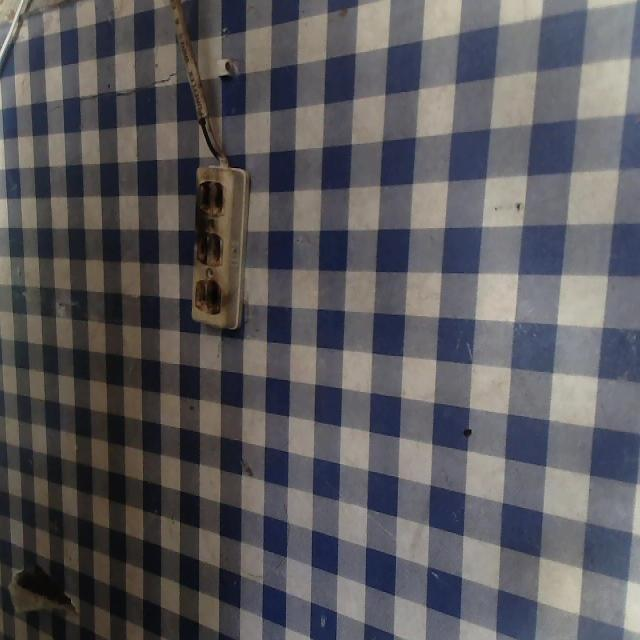-: (190, 265, 228, 323), (190, 222, 232, 270), (191, 175, 228, 221)
